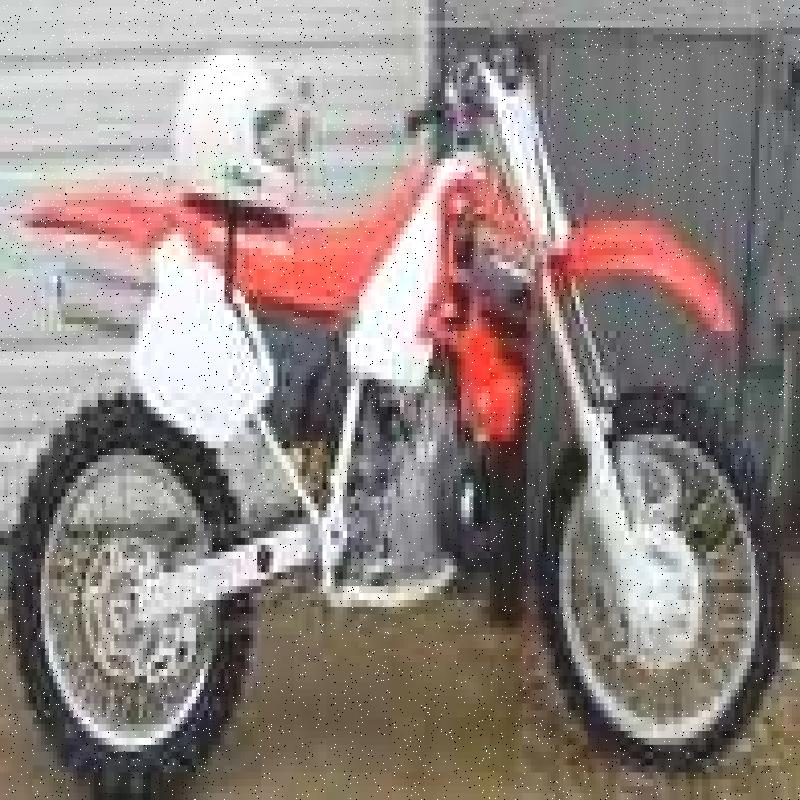bike: (11, 0, 774, 776)
